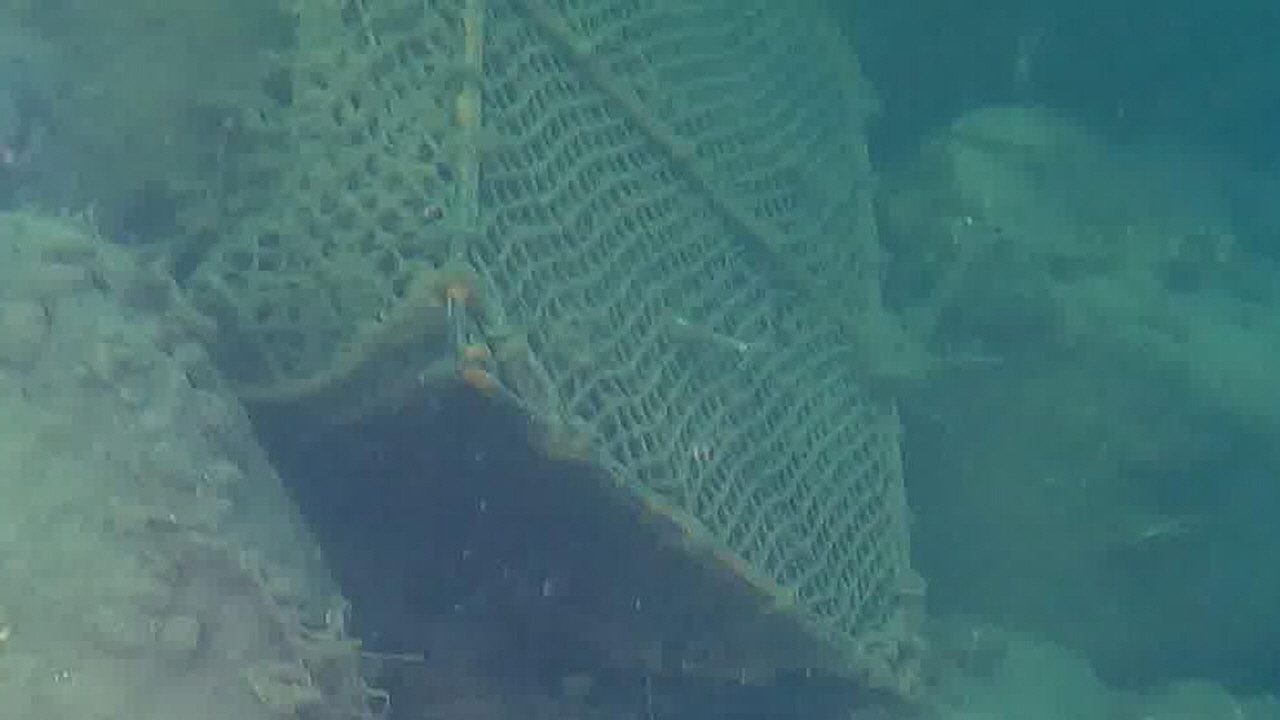rectangular fish trap: (215, 0, 932, 709)
